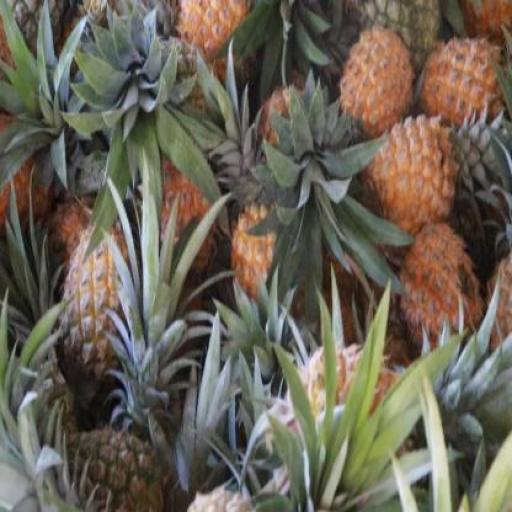------------------------------: (65, 226, 134, 380)
Pineapple - v8 v1: (398, 219, 488, 350), (371, 114, 457, 236), (337, 30, 414, 145), (423, 40, 507, 136), (174, 0, 248, 96)
